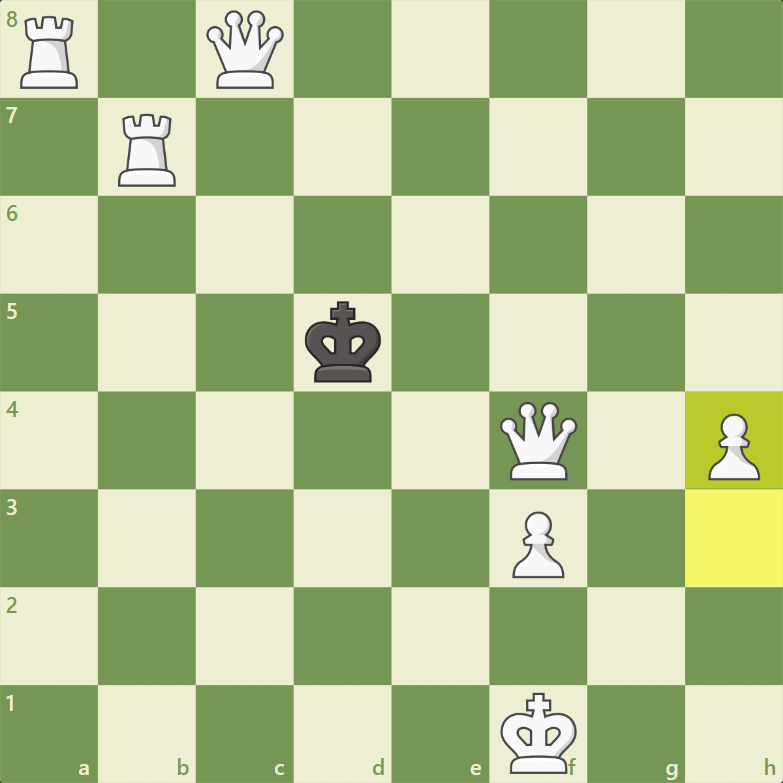K: (499, 690, 579, 778)
P: (509, 508, 569, 580), (705, 410, 762, 484)
Q: (203, 7, 288, 92), (499, 400, 581, 482)
R: (18, 14, 84, 93), (115, 112, 179, 190)
k: (301, 298, 384, 385)
